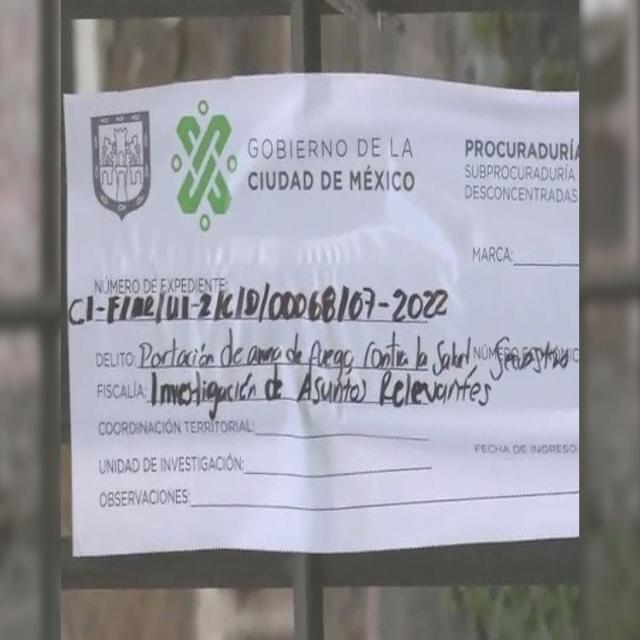stamps: (67, 73, 578, 557)
